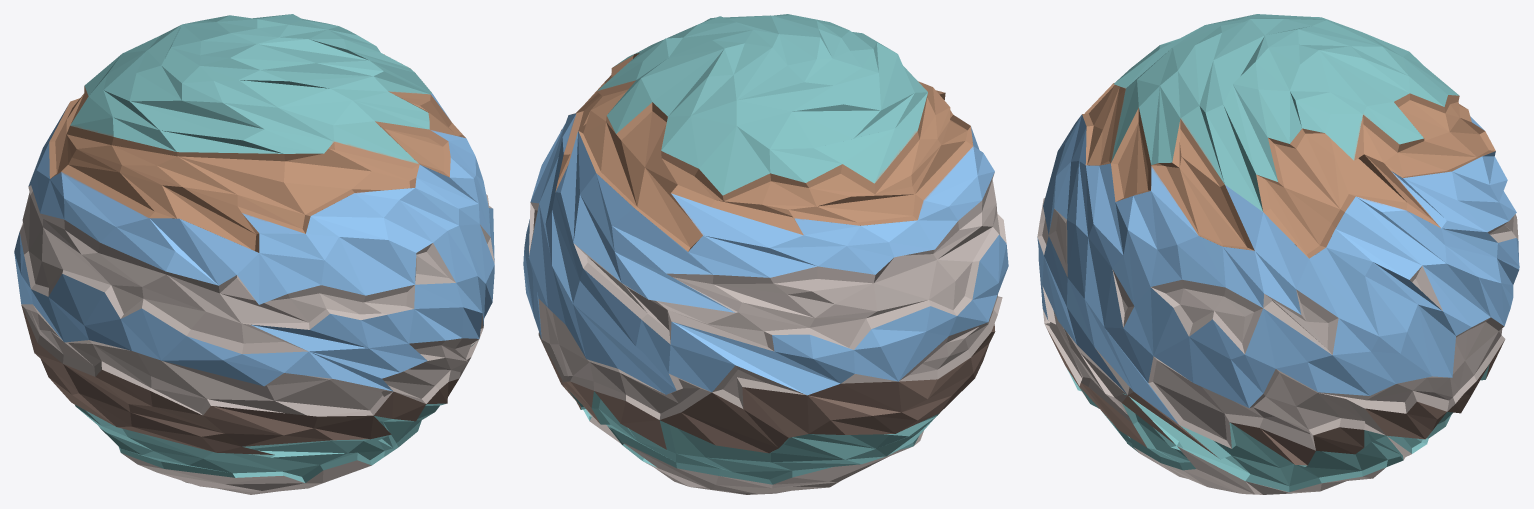
File: Jupiter.fbx
3 renders of one model, left to right at view 1: azimuth 30°, elevation 25°; view 2: azimuth 150°, elevation 25°; view 3: azimuth 270°, elevation 25°, orthographic.
Visible parts, largest first — view 1: Jupiter; view 2: Jupiter; view 3: Jupiter.
Boxes of the visible parts, x1,y1,x2,y2 form: Jupiter: (14, 14, 494, 494); Jupiter: (523, 14, 1008, 494); Jupiter: (1037, 14, 1519, 494).
Bounding box in the file's own units: 35.11 × 35.37 × 35.21.
1 material, 1 textured.
